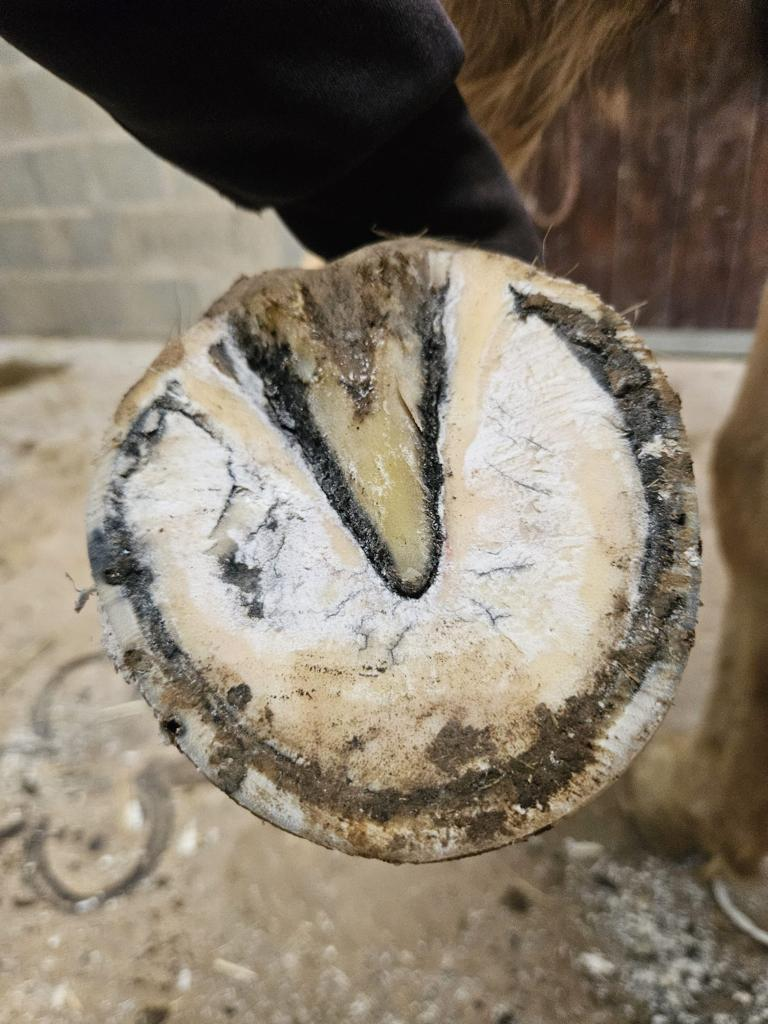horsesole: (84, 246, 701, 864)
